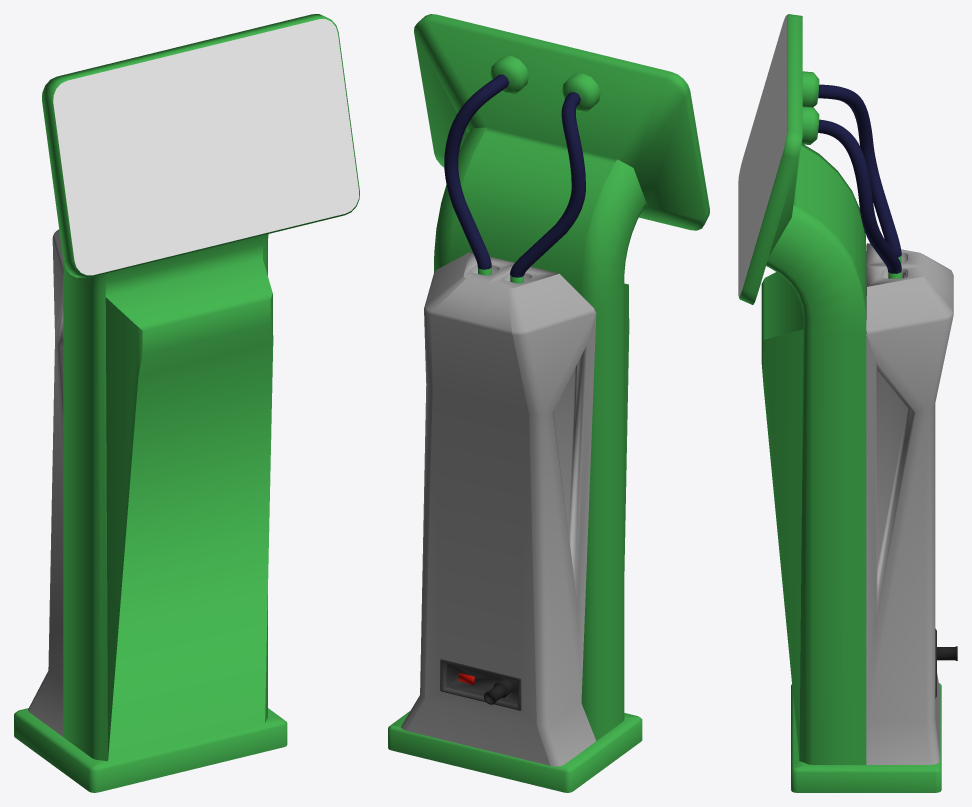
The model's file is TestScale.fbx.
3 views of the same model, side by side, from view 1: azimuth 30°, elevation 25°; view 2: azimuth 150°, elevation 25°; view 3: azimuth 270°, elevation 25° (orthographic). The views are drawn at different scales.
Visible parts, largest first — view 1: Body, Screen; view 2: Body; view 3: Body, Screen.
Boxes of the visible parts, x1=… form: Body: x1=14, y1=14, x2=359, y2=792; Screen: x1=53, y1=19, x2=358, y2=275; Body: x1=388, y1=14, x2=709, y2=792; Body: x1=739, y1=14, x2=957, y2=792; Screen: x1=738, y1=15, x2=786, y2=296.
Bounding box in the file's own units: 74.24 × 51.89 × 176.
